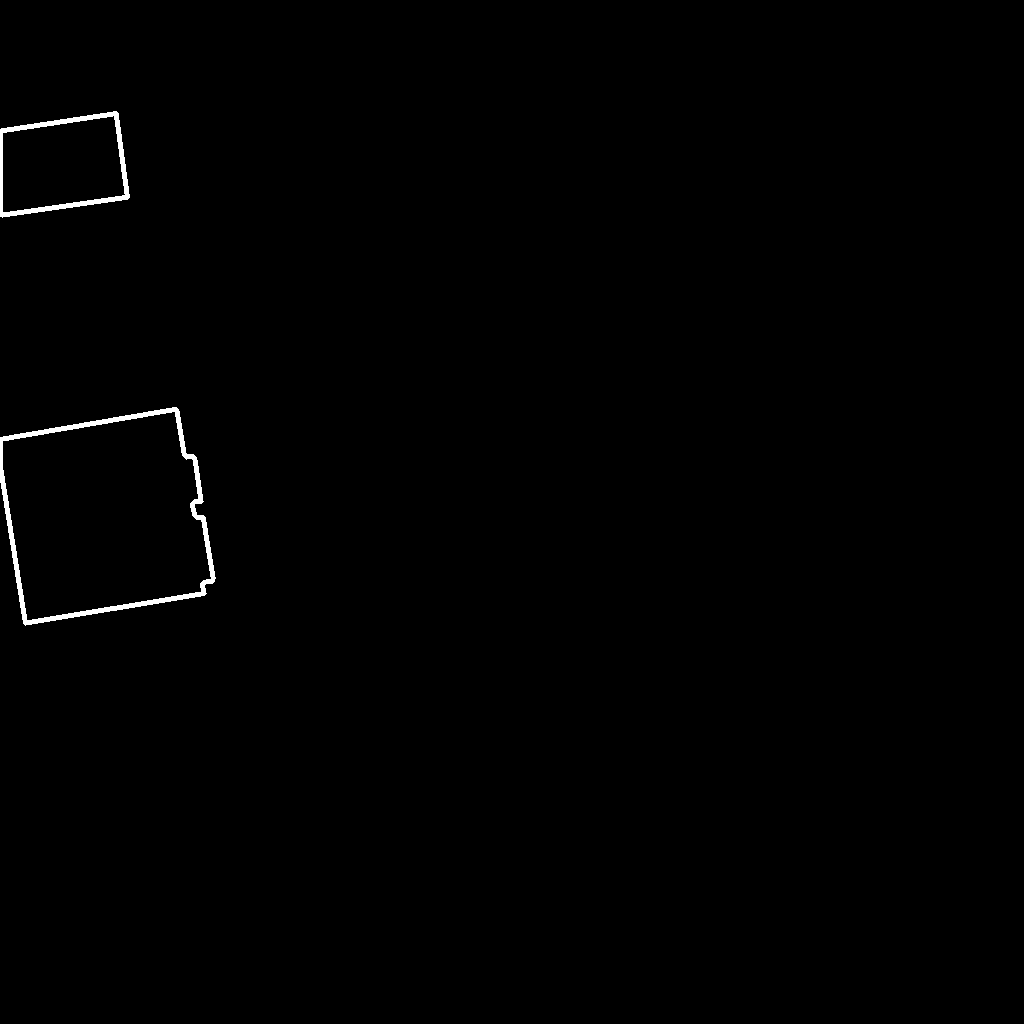building: (0, 409, 214, 624), (0, 113, 129, 216)
